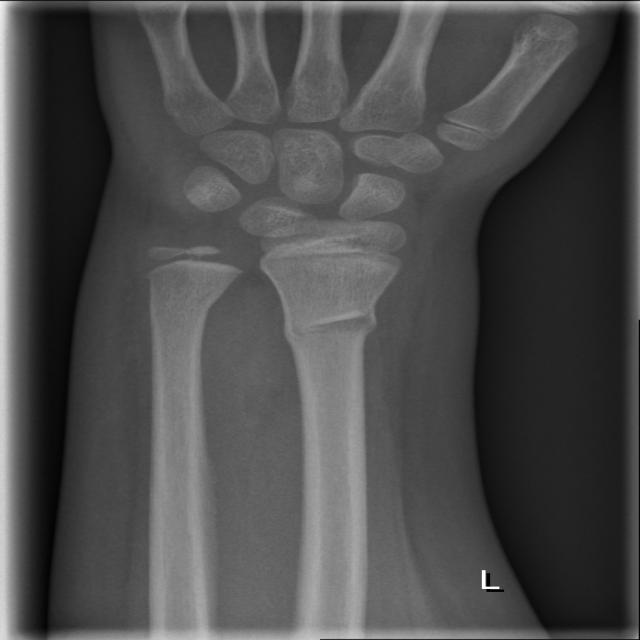radius fracture: (264, 276, 403, 402)
